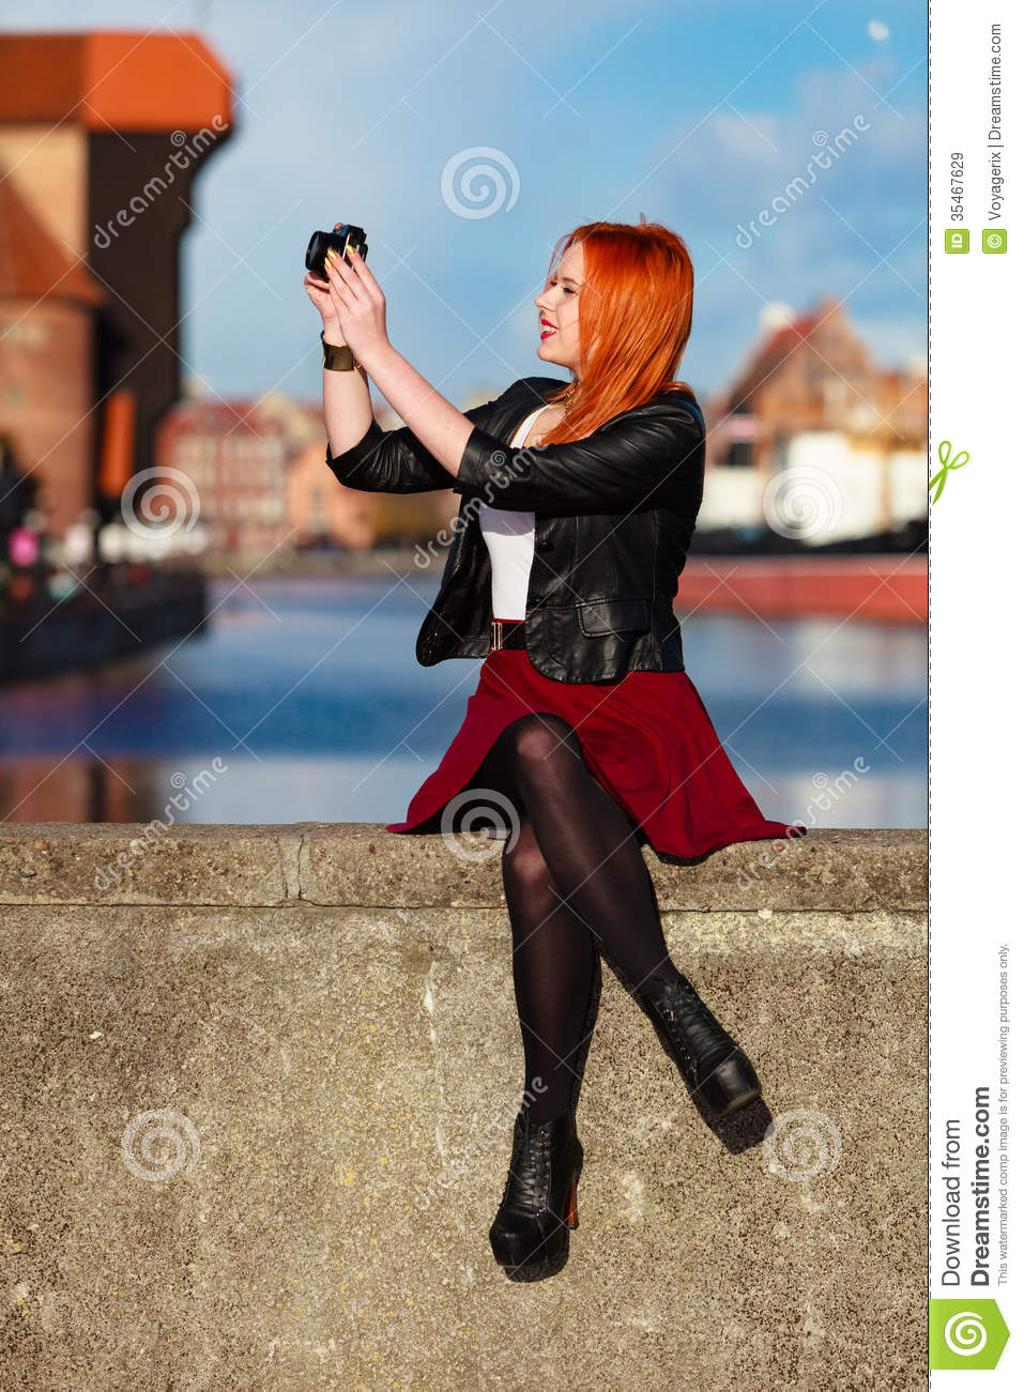face: (535, 225, 641, 369)
